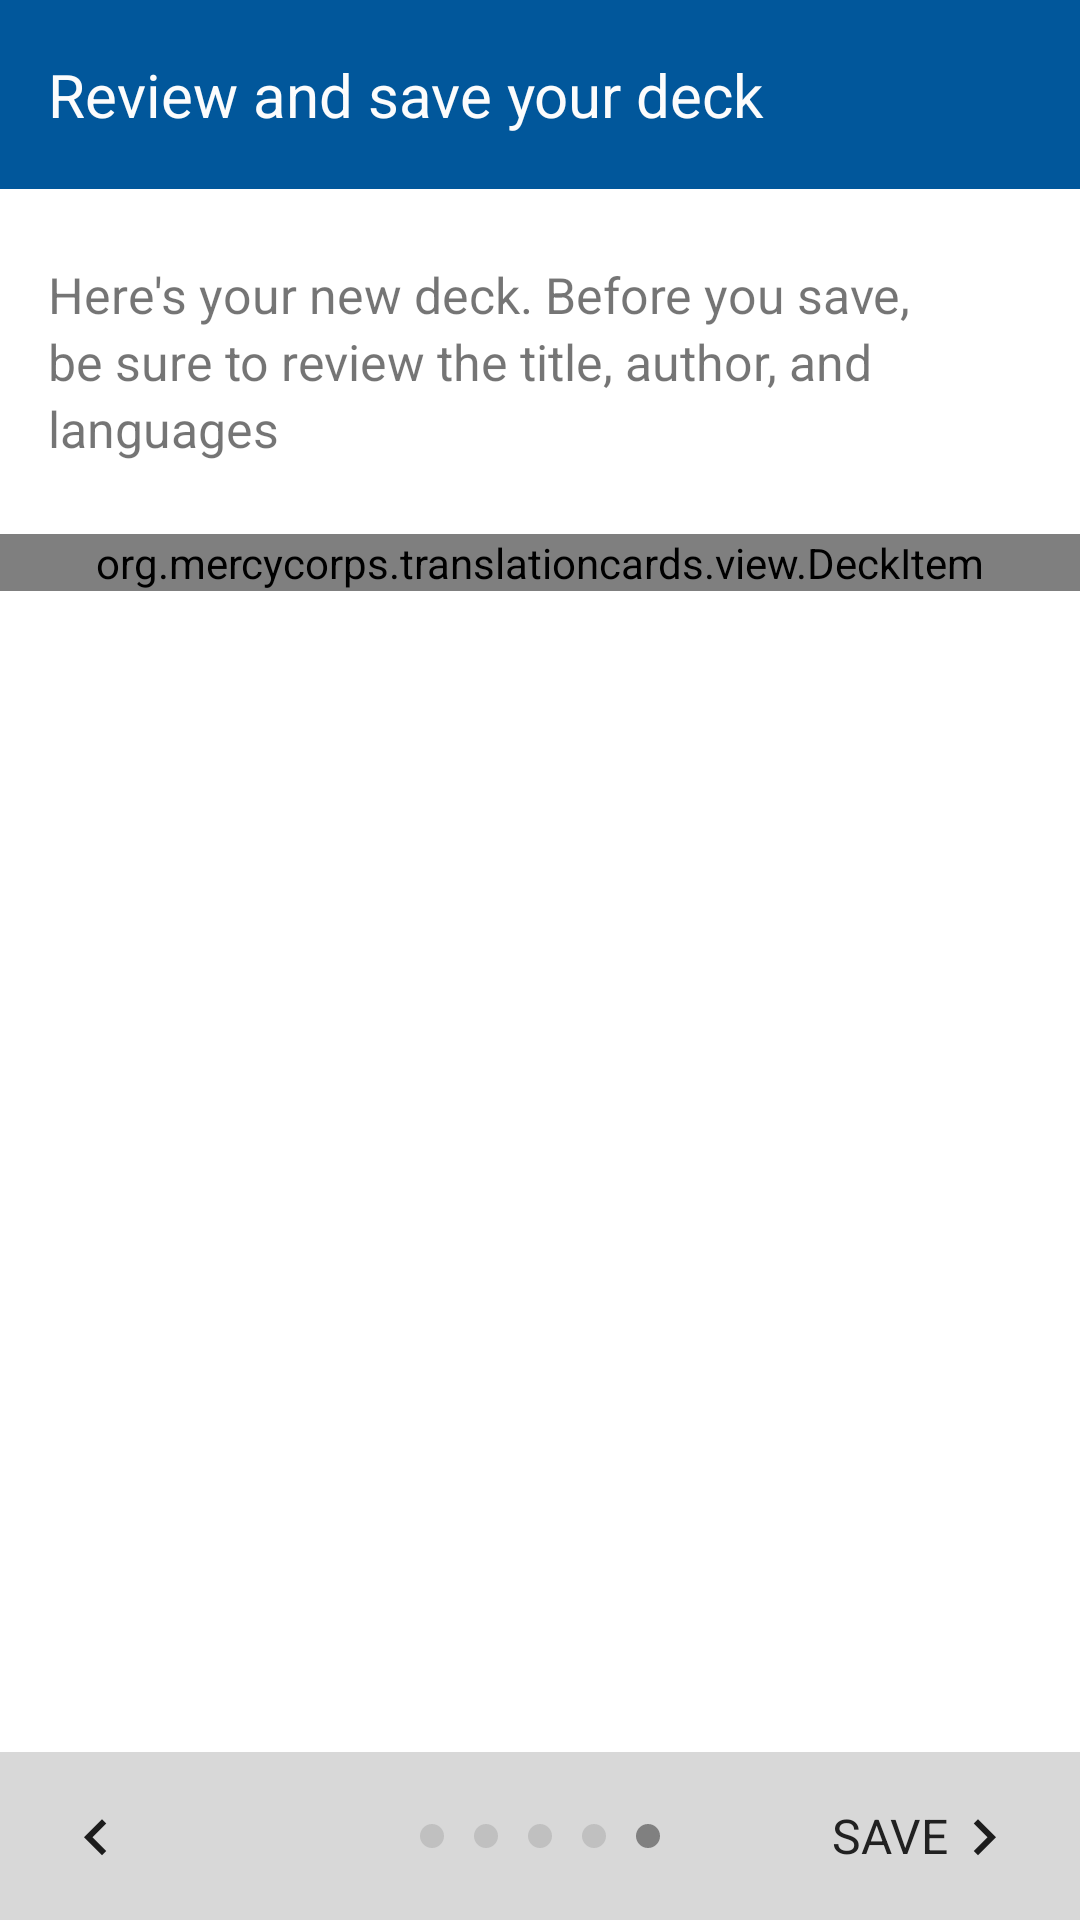

Where icons sit on this 1080x1920 app screen, as [left=x1, top=y1, right=x2, bottom=y2]:
back arrow: [left=84, top=1819, right=106, bottom=1855]
forward arrow: [left=974, top=1819, right=996, bottom=1855]
